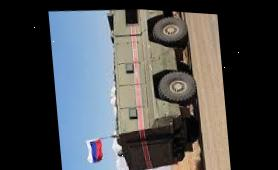truck: (77, 5, 206, 170)
